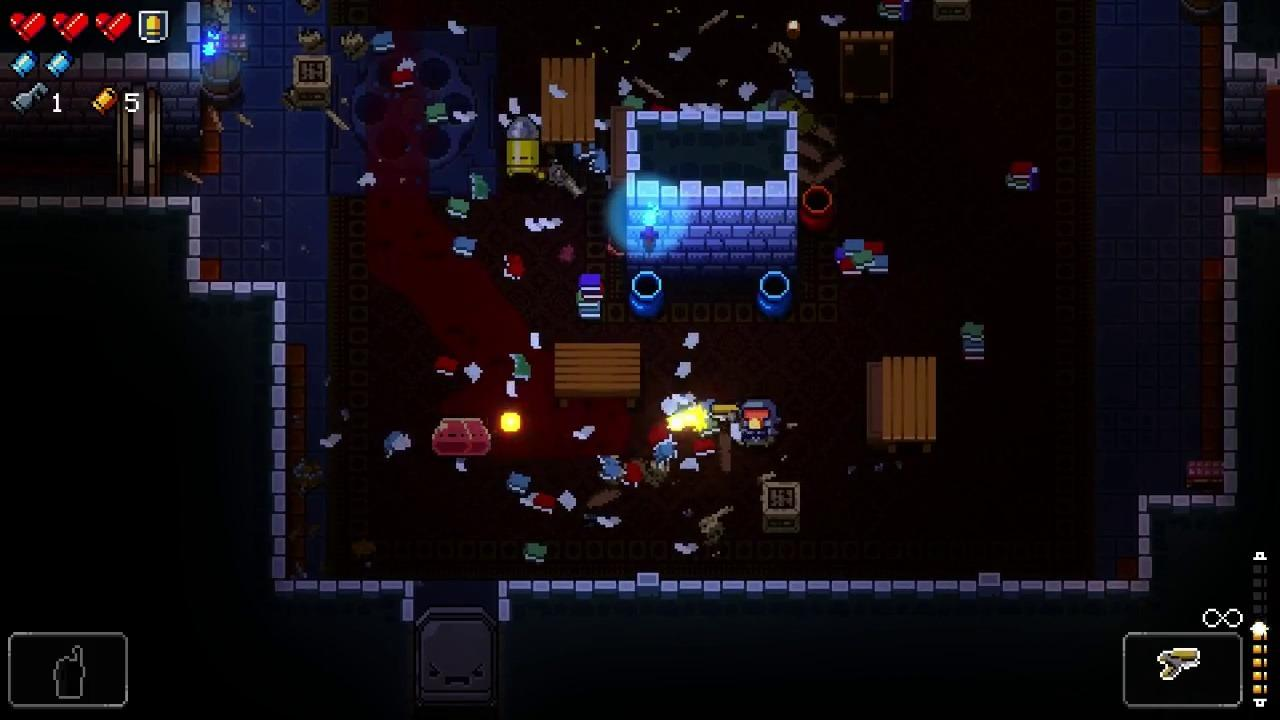blobuloid_m: (452, 417, 492, 458), (430, 419, 471, 456)
bullet_kin: (505, 115, 543, 179)
locked_door: (413, 606, 500, 708), (116, 86, 162, 197)
player: (738, 399, 779, 450)
table: (554, 343, 641, 410), (881, 355, 938, 457), (541, 58, 597, 152), (840, 30, 896, 106)
teleporter: (326, 27, 498, 196)
wall: (627, 109, 799, 275)
